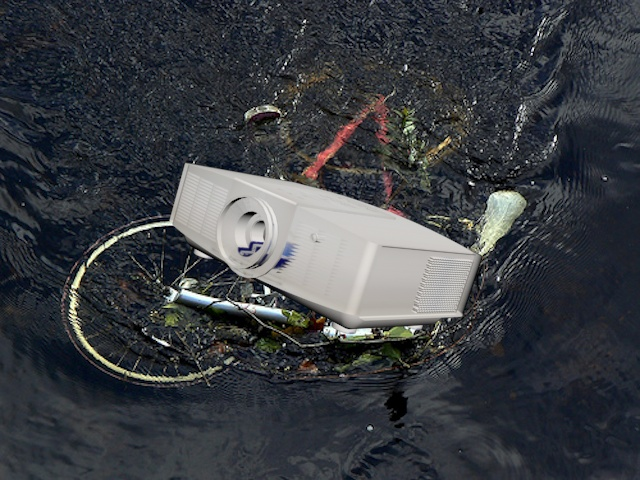projector: (161, 161, 488, 336)
